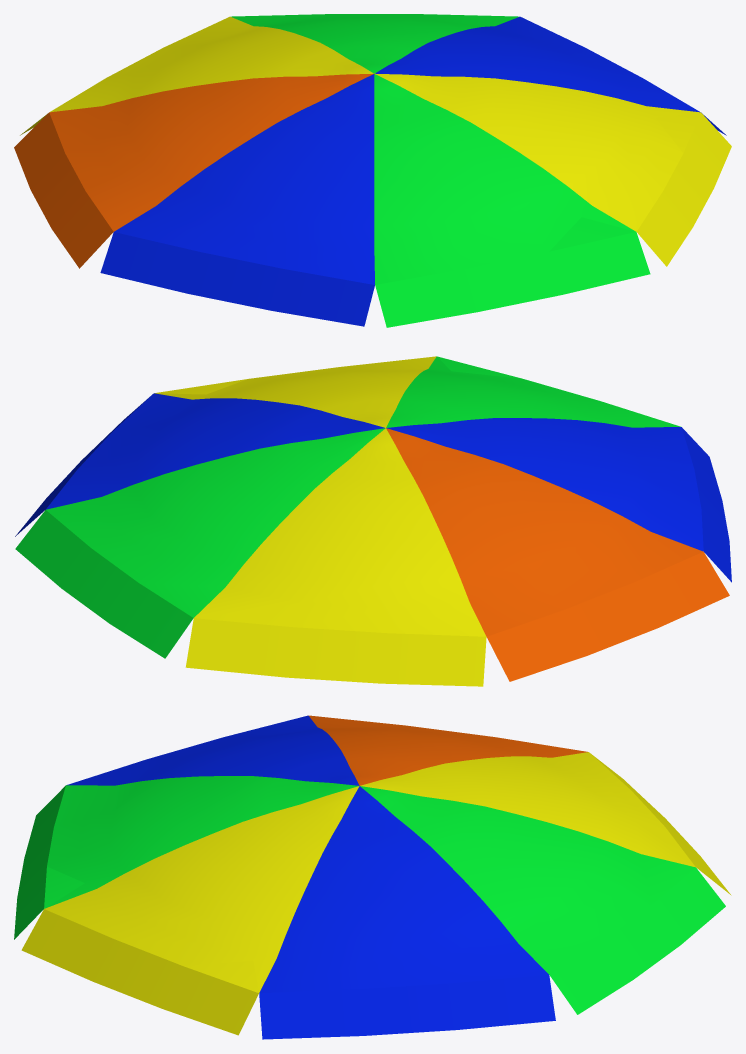
The model's file is beach_umbrella_colorfull.fbx.
3 views of the same model, one above another, from view 1: azimuth 30°, elevation 25°; view 2: azimuth 150°, elevation 25°; view 3: azimuth 270°, elevation 25° (orthographic). The views are drawn at different scales.
Visible parts, largest first — view 1: beach_umbrella; view 2: beach_umbrella; view 3: beach_umbrella.
Part boxes in pixels (<box>): beach_umbrella: <box>14,14,731,327</box>; beach_umbrella: <box>15,356,731,686</box>; beach_umbrella: <box>14,715,731,1039</box>.
Size of the model in its own units: 7.38 by 1.18 by 7.3.
